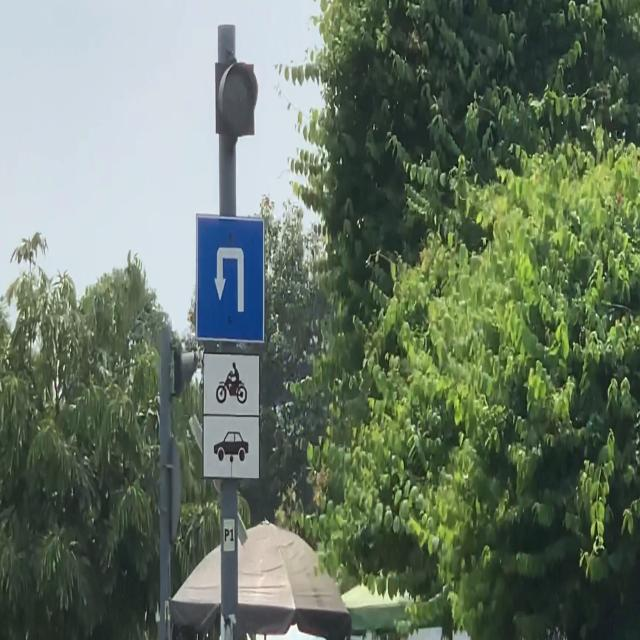Chi dan: (193, 210, 269, 343)
